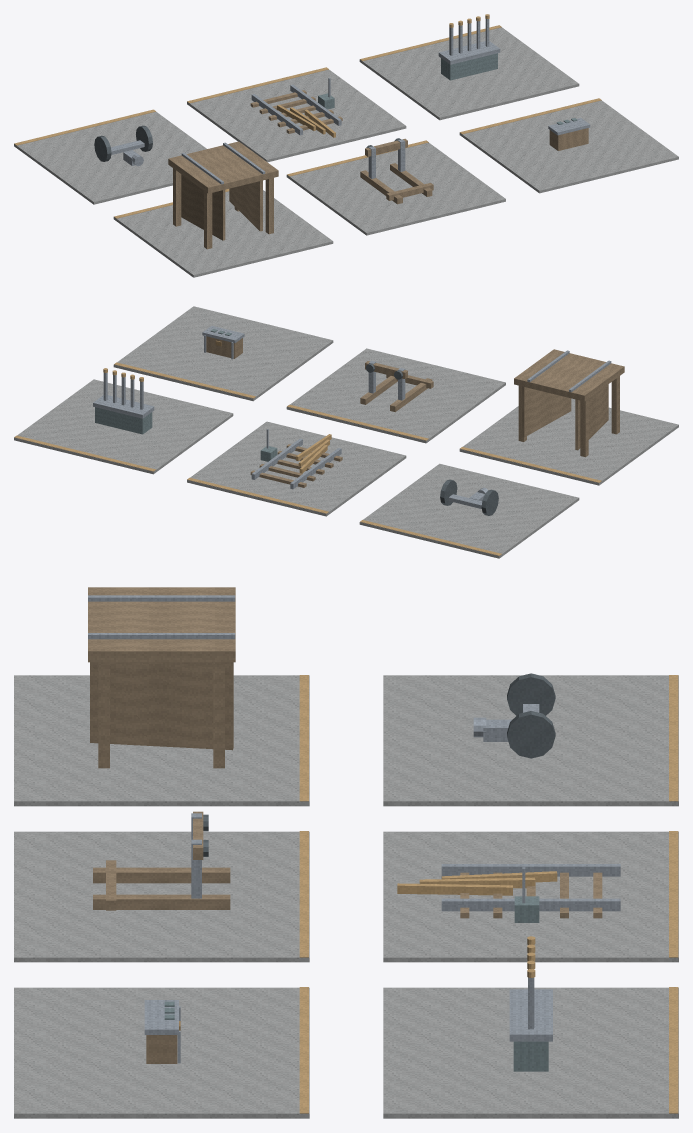
File: level_blockout_kit_wld_12_p02.glb
3 views of the same model, one above another, from view 1: azimuth 30°, elevation 25°; view 2: azimuth 150°, elevation 25°; view 3: azimuth 270°, elevation 25° (orthographic). The views are drawn at different scales.
Visible parts, largest first — view 1: level_blockout_kit_wld_12_p02; view 2: level_blockout_kit_wld_12_p02; view 3: level_blockout_kit_wld_12_p02.
Part boxes in pixels (bbox=[...]): level_blockout_kit_wld_12_p02: bbox=[14, 14, 678, 277]; level_blockout_kit_wld_12_p02: bbox=[14, 306, 678, 558]; level_blockout_kit_wld_12_p02: bbox=[14, 587, 678, 1118].
Bounding box in the file's own units: 19.65 × 2.68 × 12.6.
Materials: 7 (7 with a texture image).
